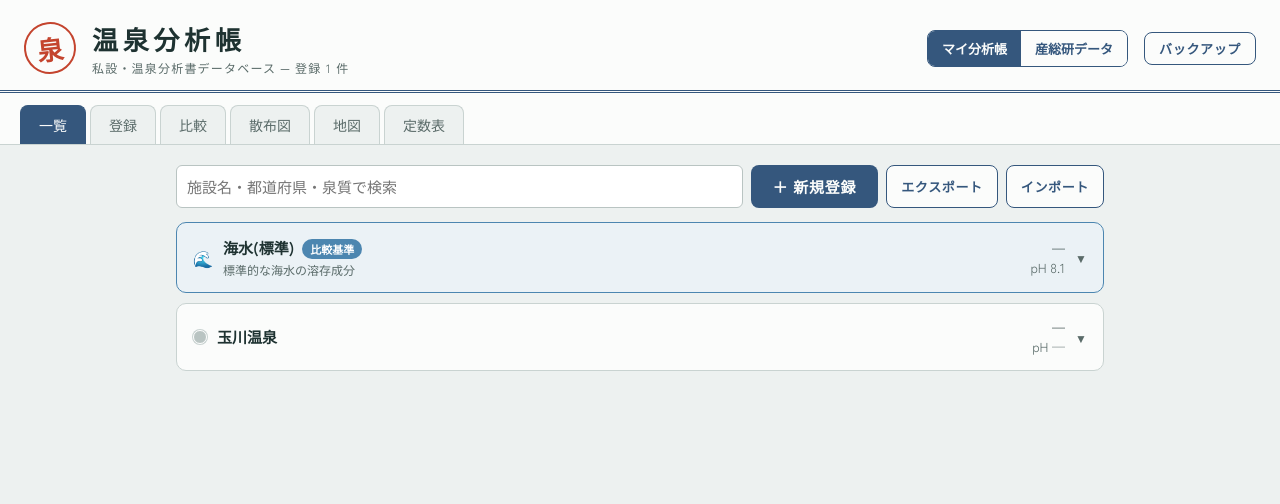
一覧 › レコードを開くと成分の詳細が表示される
This screenshot has width=1280, height=504.
Click the text "玉川温泉": (247, 336) [217, 326, 277, 346]
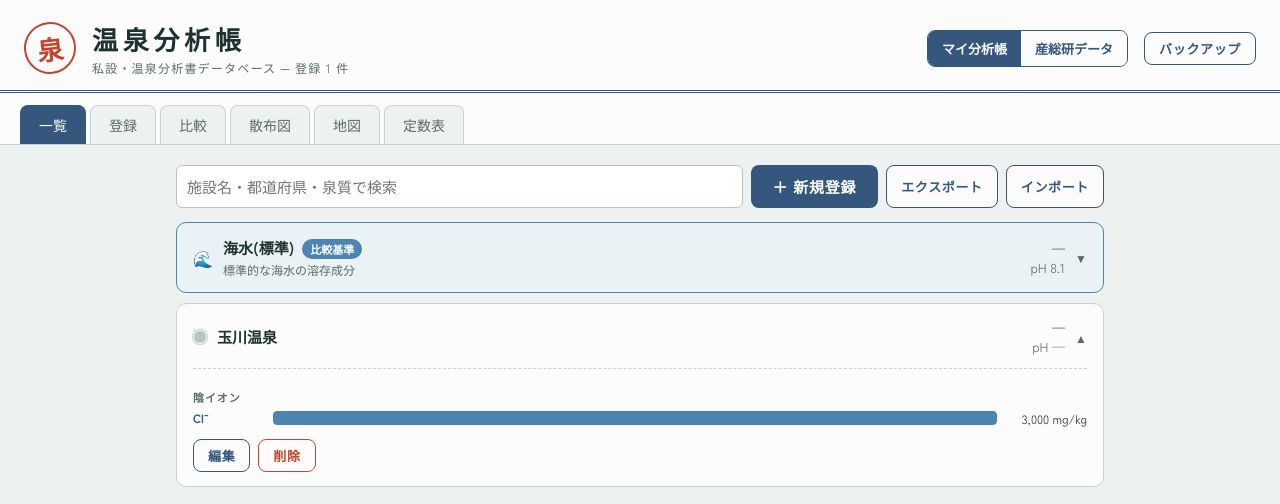
Expected: the text "Cl⁻" is shown, [193, 409, 208, 426]
Expected: the text "3,000 mg/kg" is shown, [1022, 410, 1087, 426]
